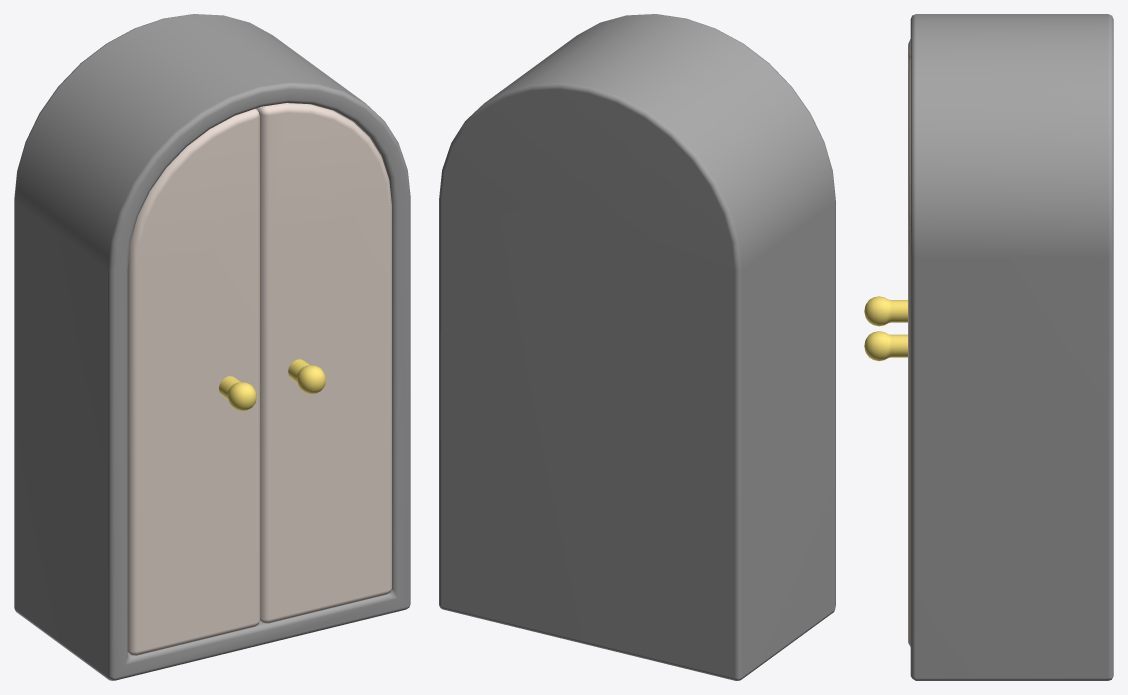
File: Wardrobe_1.glb
3 renders of one model, left to right at view 1: azimuth 30°, elevation 25°; view 2: azimuth 150°, elevation 25°; view 3: azimuth 270°, elevation 25°, orthographic. The views are drawn at different scales.
Visible parts, largest first — view 1: Wardrobe_1; view 2: Wardrobe_1; view 3: Wardrobe_1.
Boxes of the visible parts, x1=… form: Wardrobe_1: x1=14, y1=14, x2=410, y2=680; Wardrobe_1: x1=439, y1=14, x2=835, y2=680; Wardrobe_1: x1=864, y1=14, x2=1113, y2=680.
Bounding box in the file's own units: 1.4 × 2.47 × 0.9684.
1 material, 1 textured.
